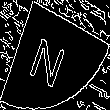N_NE: (33, 24, 77, 86)
